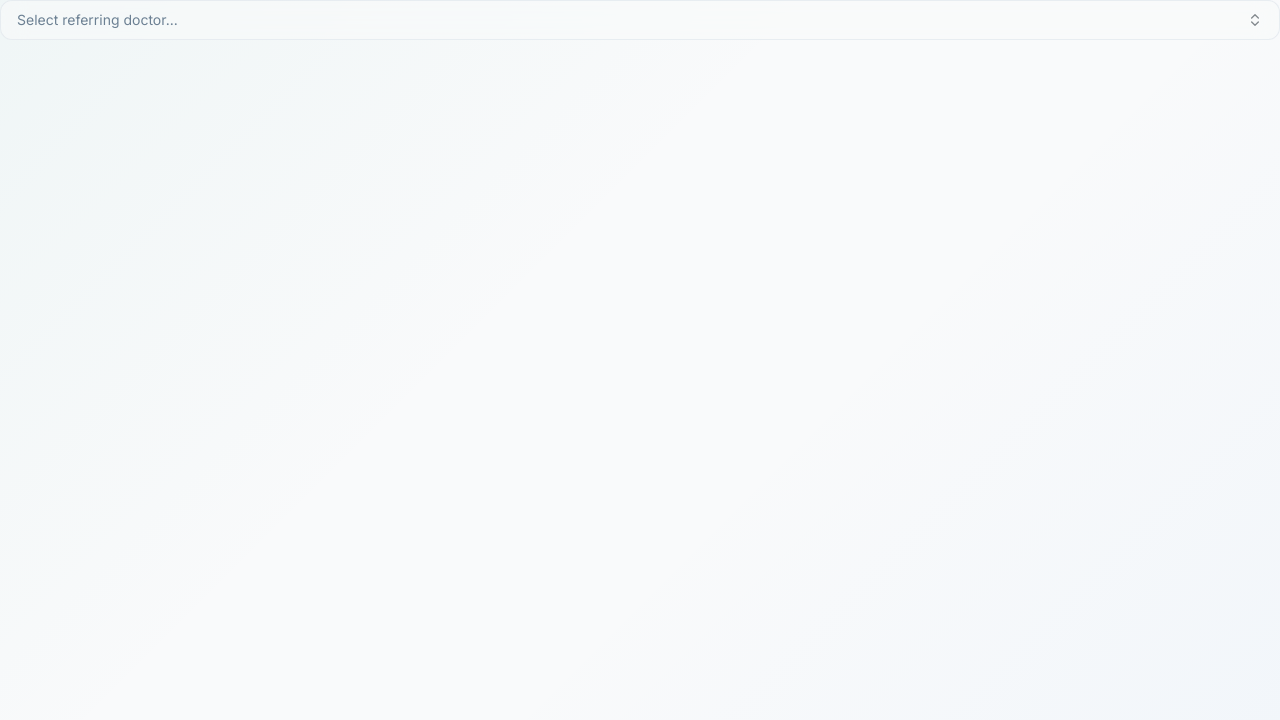
Scenario: ReferringDoctorPicker › finds a staff doctor by name
Click the dropdown at (97, 20), box [0,0,1279,40]
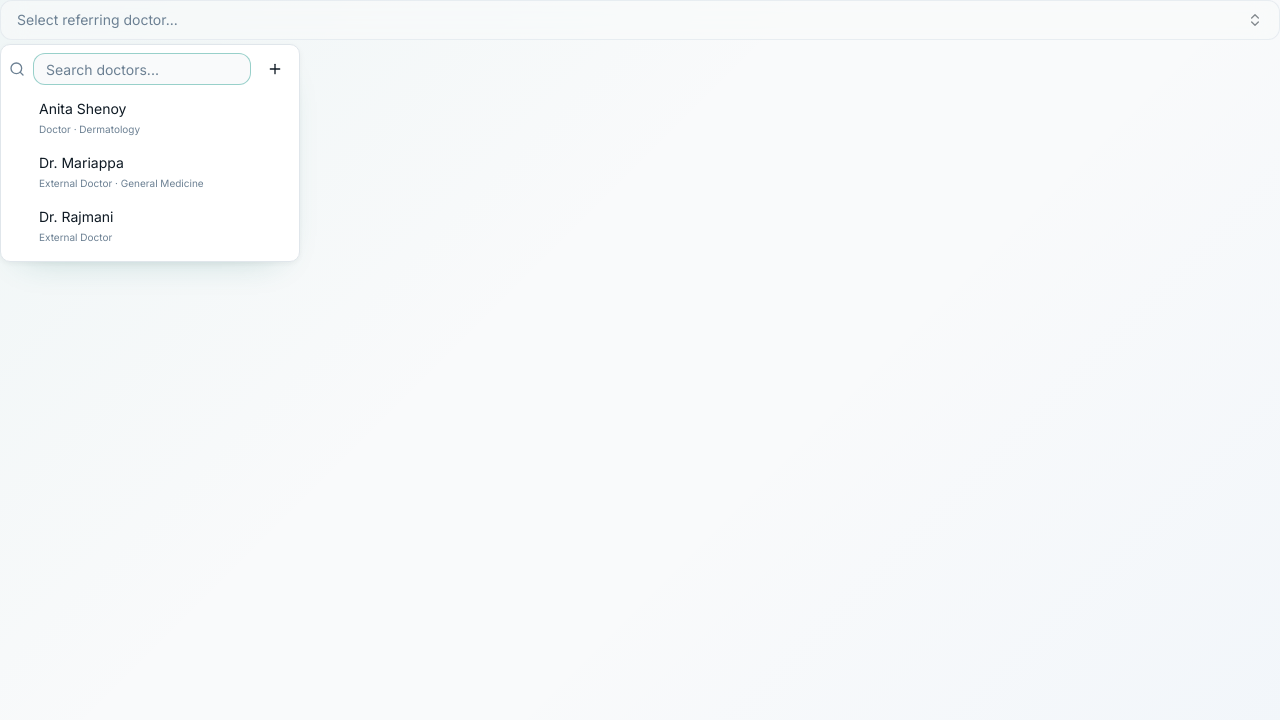
Check: the field with placeholder "Search doctors..." is shown
Check: the text "Anita Shenoy" is shown, box [39,100,126,117]
Type "shenoy" into the field with placeholder "Search doctors..." at (142, 69), box [33,53,251,85]
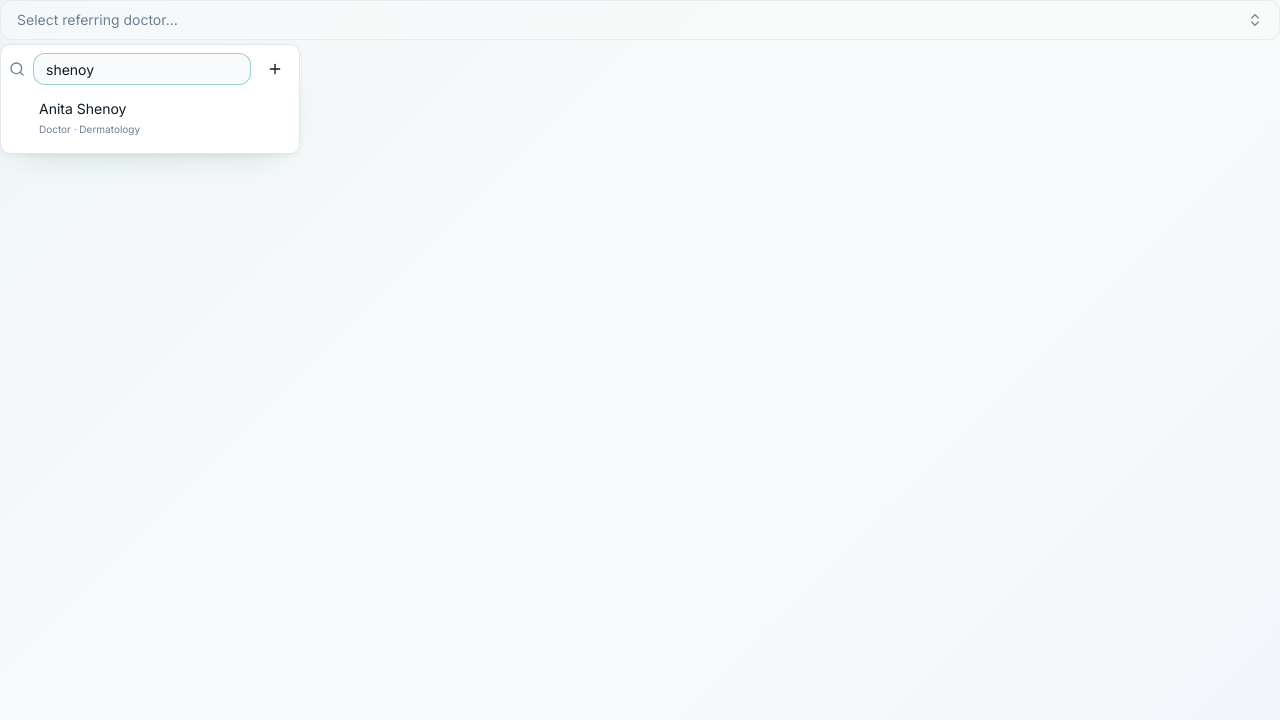
Check: the text "Anita Shenoy" is shown, box [39,100,126,117]
Check: the button "Dr. Mariappa" is gone
